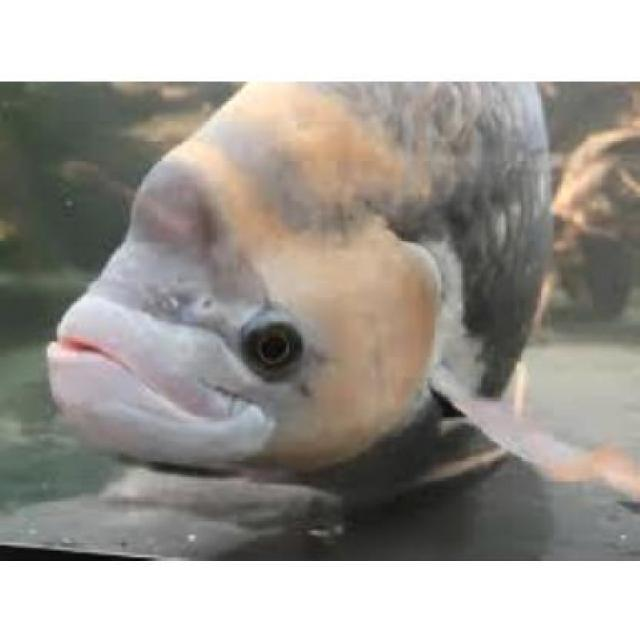gurame: (47, 79, 578, 484)
